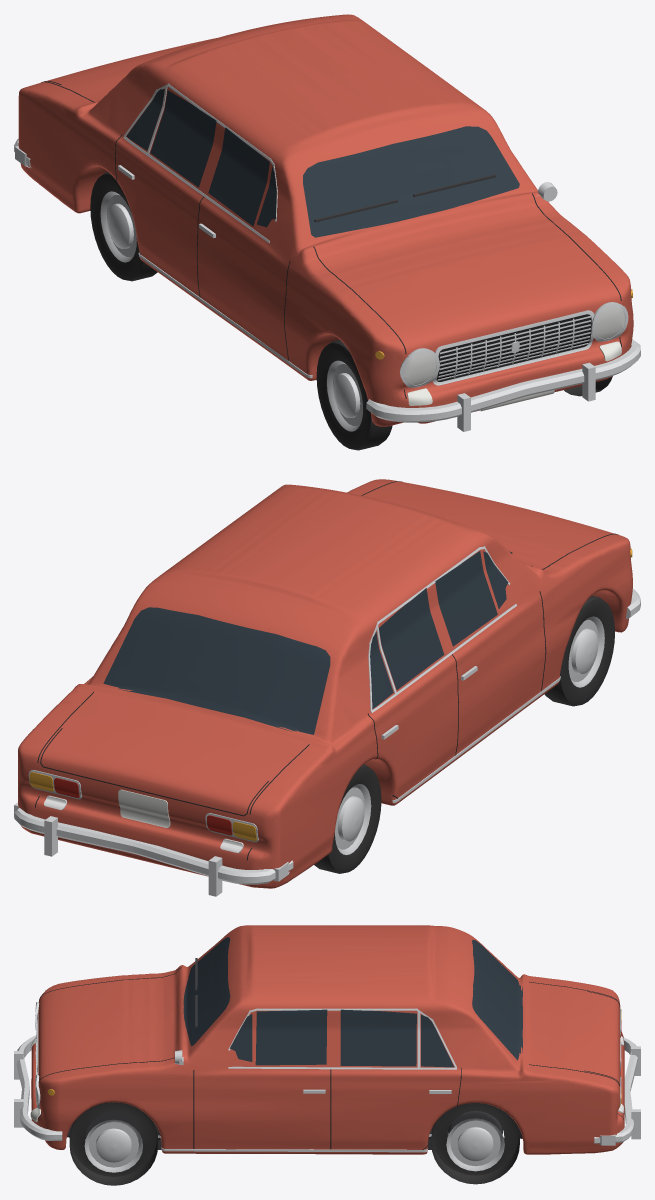
Rendered from vaz2101.glb.
3 renders of one model, top to bottom at view 1: azimuth 30°, elevation 25°; view 2: azimuth 150°, elevation 25°; view 3: azimuth 270°, elevation 25°, orthographic. The views are drawn at different scales.
Parts seen in each view (by area): view 1: paint, glass, trim, wheel_fr, wheel_rr, headlights; view 2: paint, glass, trim, wheel_fr, wheel_rr, taillights; view 3: paint, glass, trim, wheel_fl, wheel_rl.
Boxes of the visible parts, x1,y1,x2,y2 form: paint: (18,14,633,426); glass: (126,89,519,237); trim: (14,81,640,431); wheel_fr: (316,339,392,450); wheel_rr: (90,172,157,281); headlights: (405,306,625,384); paint: (18,479,632,888); glass: (103,551,508,734); trim: (14,481,640,896); wheel_fr: (544,595,614,706); wheel_rr: (314,764,381,873); taillights: (54,778,232,835); paint: (31,925,624,1154); glass: (183,937,522,1067); trim: (14,958,640,1152); wheel_fl: (69,1102,158,1185); wheel_rl: (431,1103,519,1184).
Size of the model in its own units: 1.63 by 1.38 by 4.2.
